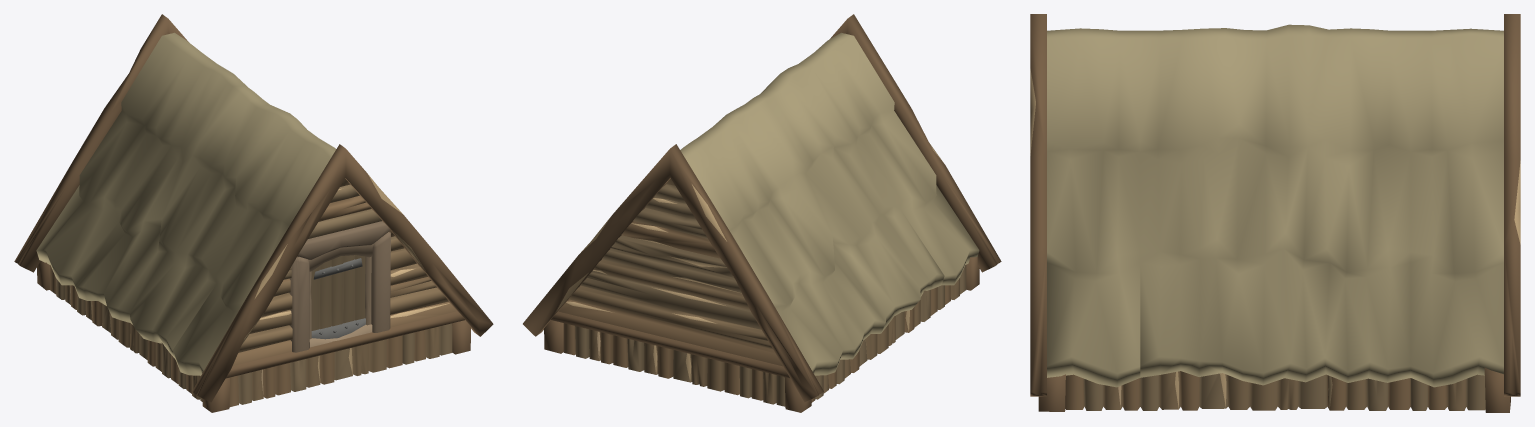
The model's file is House_2.gltf.
The picture shows the model from 3 angles, left to right: view 1: azimuth 30°, elevation 25°; view 2: azimuth 150°, elevation 25°; view 3: azimuth 270°, elevation 25°; orthographic projection. The views are drawn at different scales.
Parts seen in each view (by area): view 1: House_2; view 2: House_2; view 3: House_2.
Part boxes in pixels (x1=…): House_2: x1=14, y1=14, x2=493, y2=412; House_2: x1=523, y1=14, x2=1001, y2=412; House_2: x1=1030, y1=14, x2=1520, y2=412.
Bounding box in the file's own units: 6.73 × 5.13 × 7.25.
Materials: 1 (1 with a texture image).
